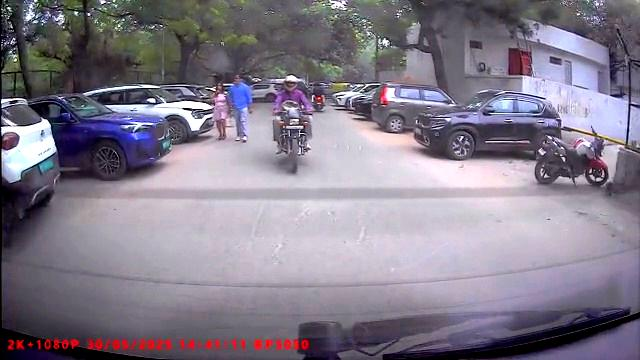motorcycle_with_helmet: (269, 73, 314, 175)
